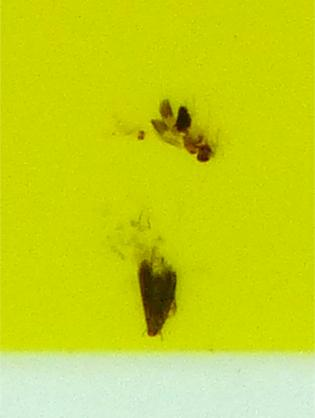Hemiptera: (101, 115, 147, 142)
Hymenoptera: (149, 96, 217, 165)
Lepidoptera: (136, 258, 179, 340)
